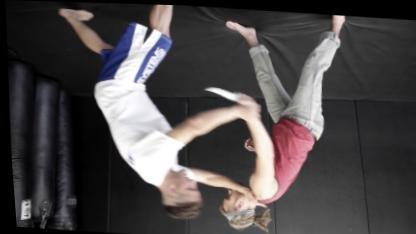knife: (197, 80, 264, 112)
